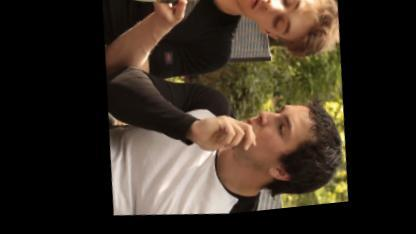knife: (117, 0, 206, 29)
